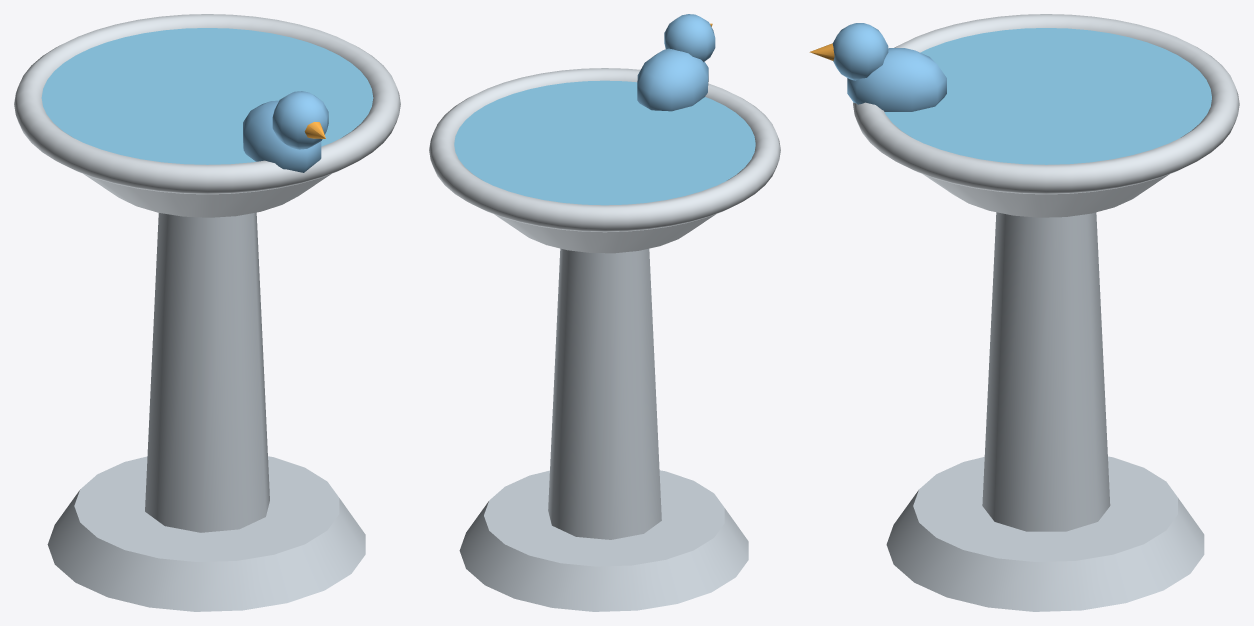
Rendered from birdbath.glb.
The picture shows the model from 3 angles, left to right: view 1: azimuth 30°, elevation 25°; view 2: azimuth 150°, elevation 25°; view 3: azimuth 270°, elevation 25°; orthographic projection. The views are drawn at different scales.
Bounding box in the file's own units: 0.726 × 1.07 × 0.808.
